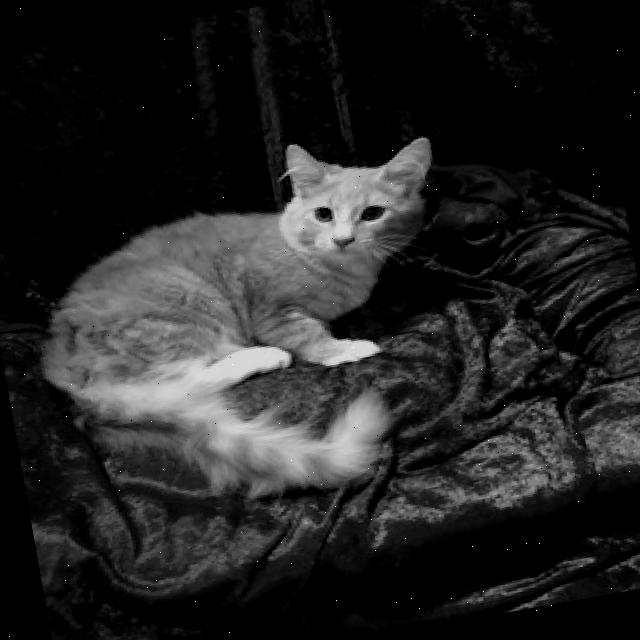maine_coon_cat: (230, 105, 470, 308)
